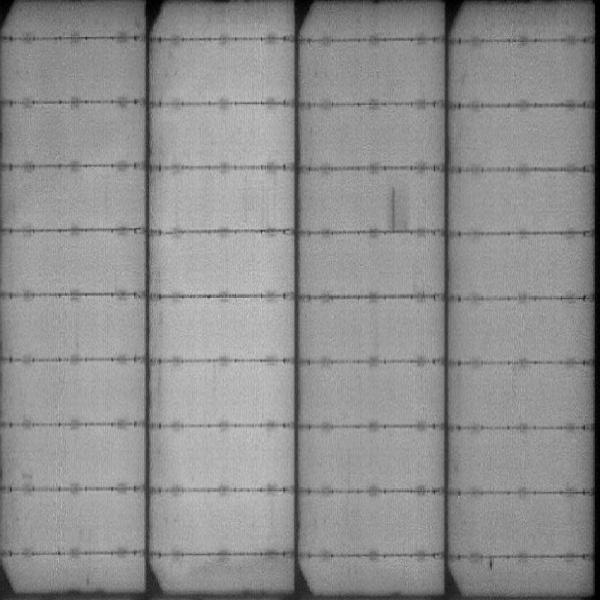scratch: (385, 186, 400, 230)
